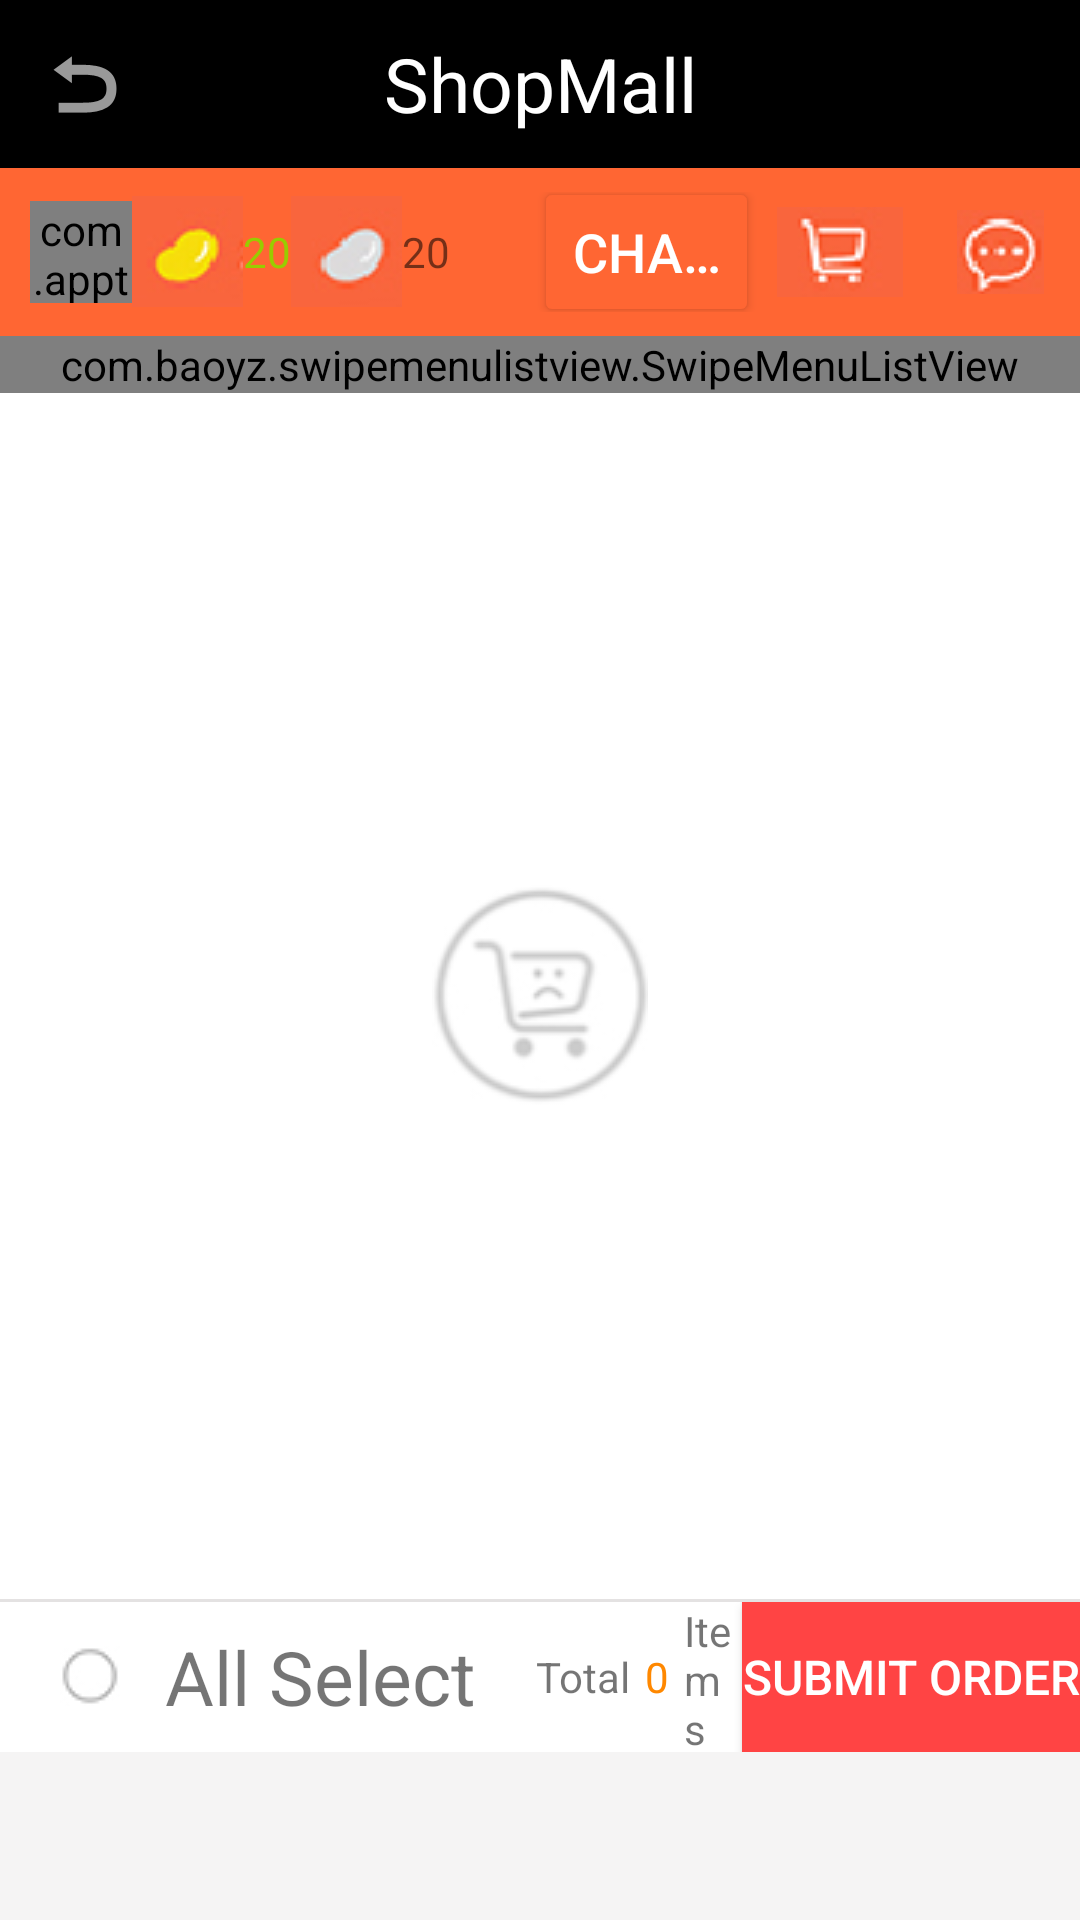

Point at icon controls on the screen. Image size 1080 x 1920, points as [x,y].
check box: [90,1676]
goldbean: [199,255]
messages: [1000,252]
shoppingcart: [840,252]
shoppingemptycart: [541,994]
silverbean: [352,255]
